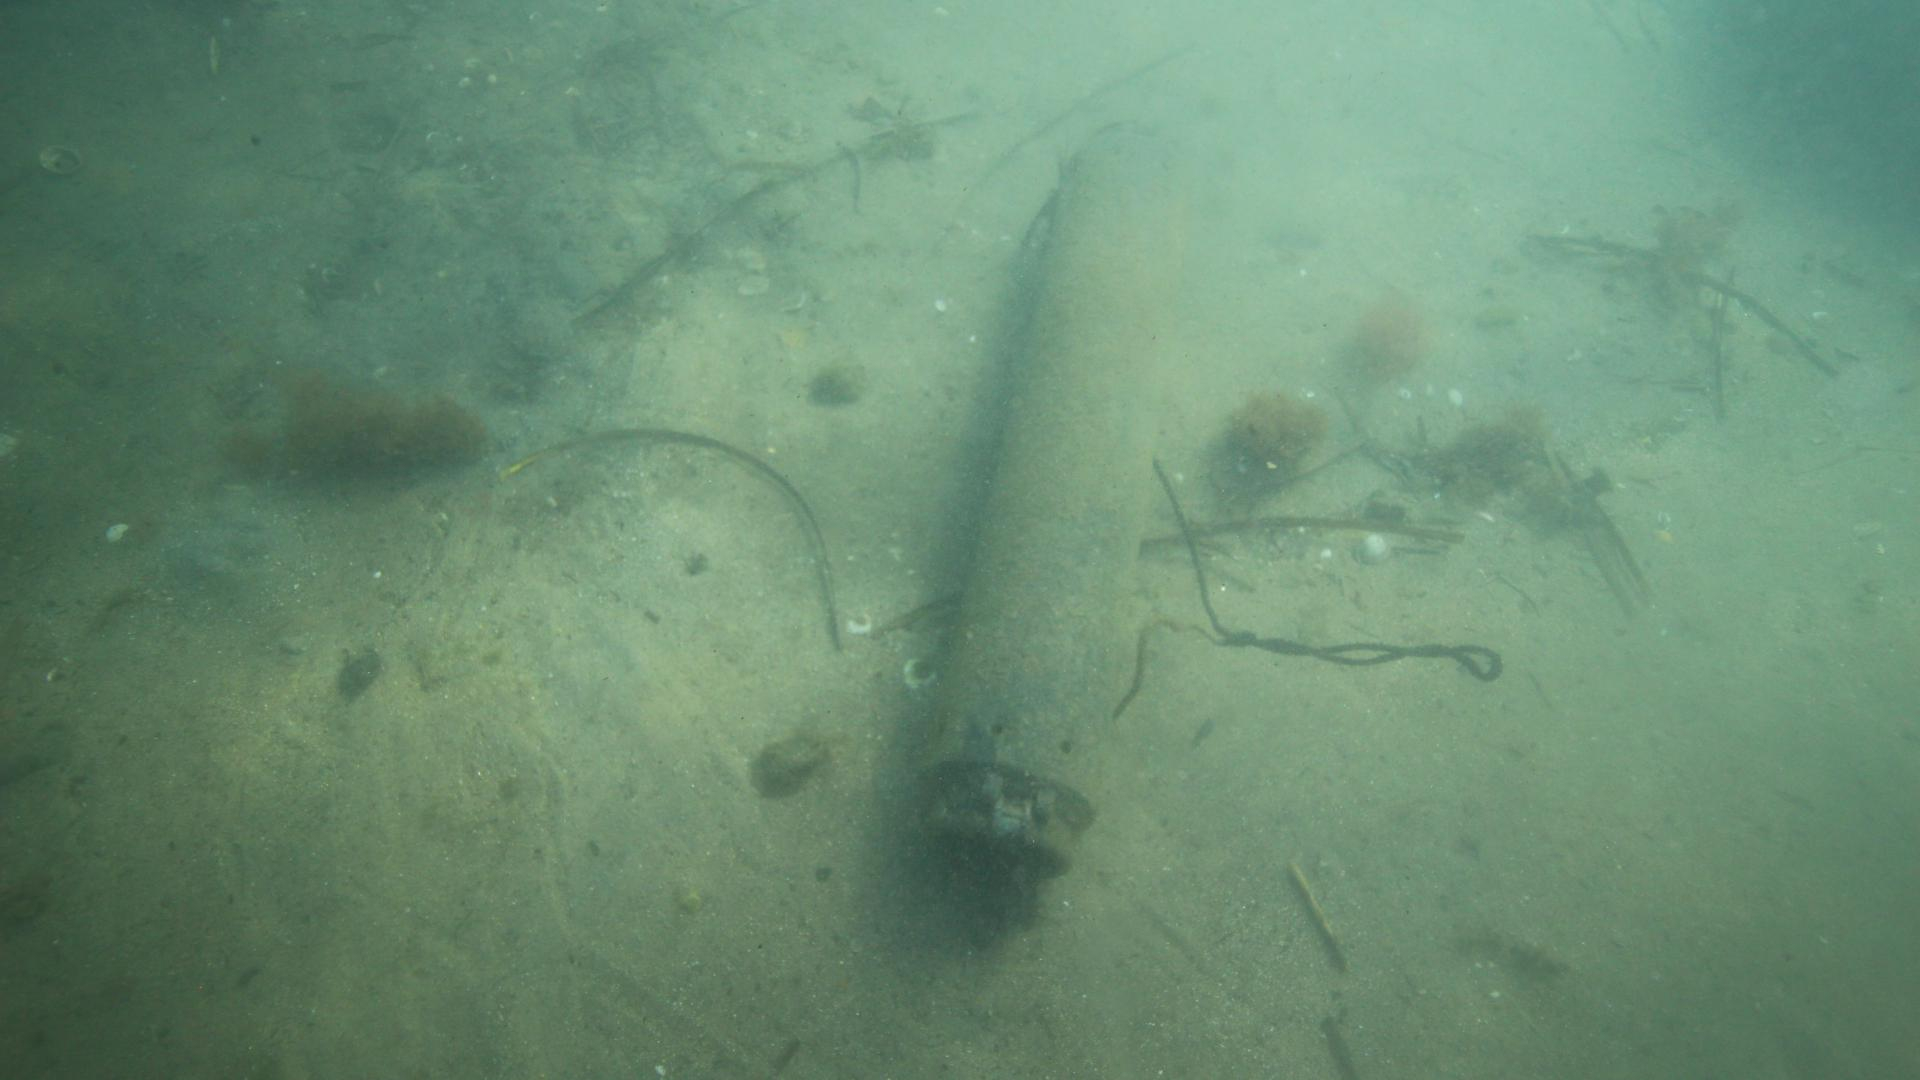eel fish trap: (916, 124, 1196, 884)
rope: (1108, 458, 1503, 717)
